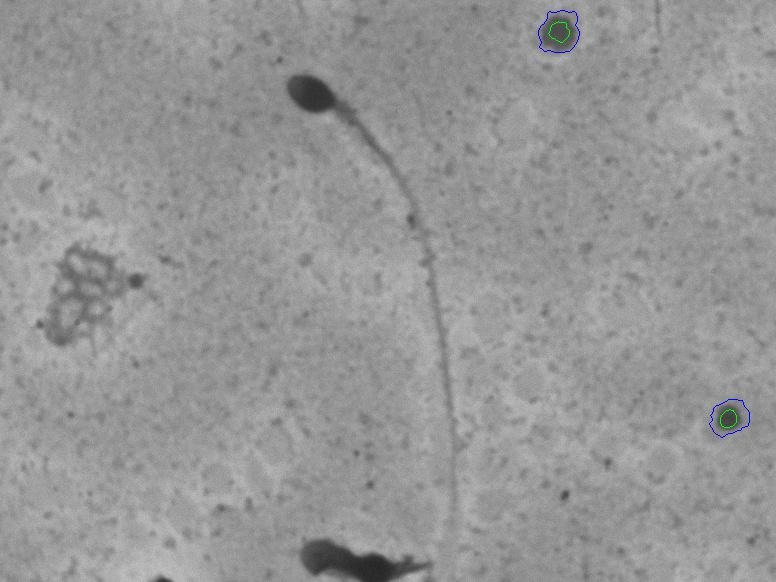Abnormal: (263, 52, 502, 464)
